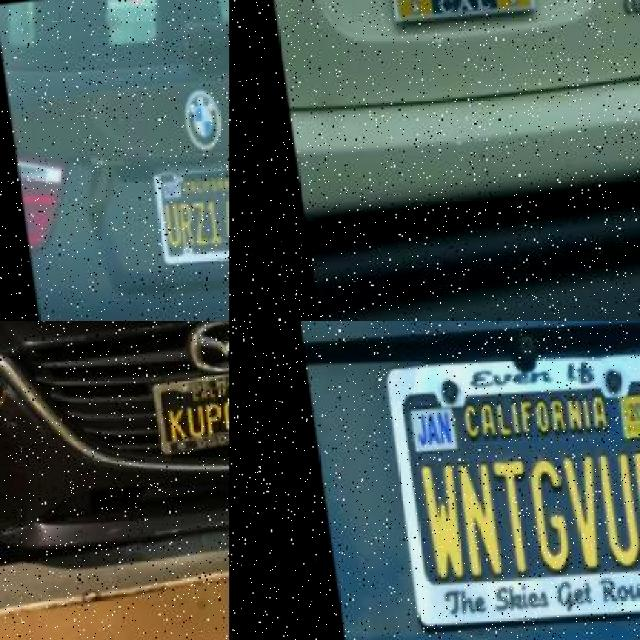licenseplate: (375, 334, 640, 640), (369, 0, 528, 74), (148, 157, 229, 266), (145, 377, 229, 460)
